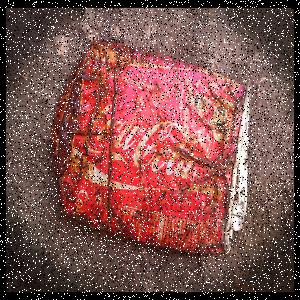Can: (52, 42, 252, 256)
